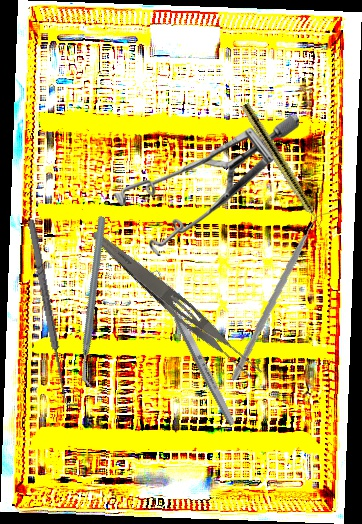Chopper: (21, 215, 169, 390), (218, 211, 346, 381)
Dressing Forceps: (84, 226, 266, 385)
Handpiece: (238, 101, 331, 239)
Hook Surgical: (24, 217, 80, 409)
Speculum: (114, 114, 299, 256)
Surgical Spoon: (149, 268, 238, 428)
